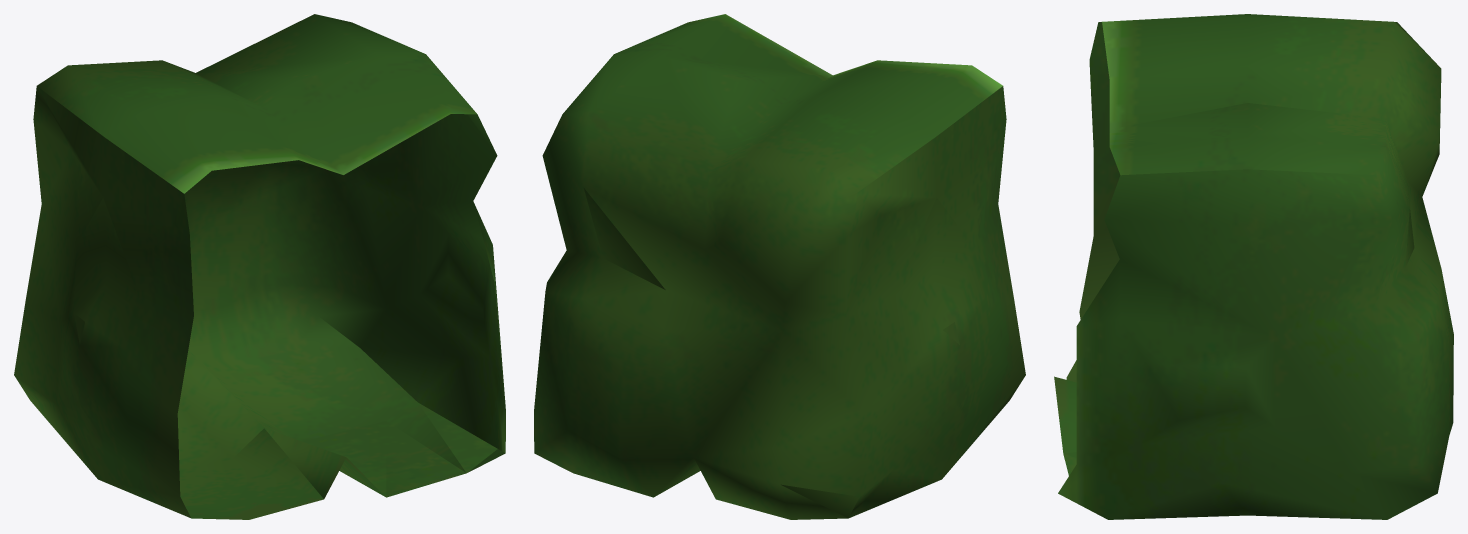
Rendered from destroyable.FBX.
The picture shows the model from 3 angles, left to right: view 1: azimuth 30°, elevation 25°; view 2: azimuth 150°, elevation 25°; view 3: azimuth 270°, elevation 25°; orthographic projection.
Visible parts, largest first — view 1: Mesh_0009; view 2: Mesh_0009; view 3: Mesh_0009.
Boxes of the visible parts, <box> form: Mesh_0009: <box>14,14,505,519</box>; Mesh_0009: <box>534,14,1025,519</box>; Mesh_0009: <box>1054,14,1453,519</box>.
Bounding box in the file's own units: 105 × 99.93 × 97.46.
